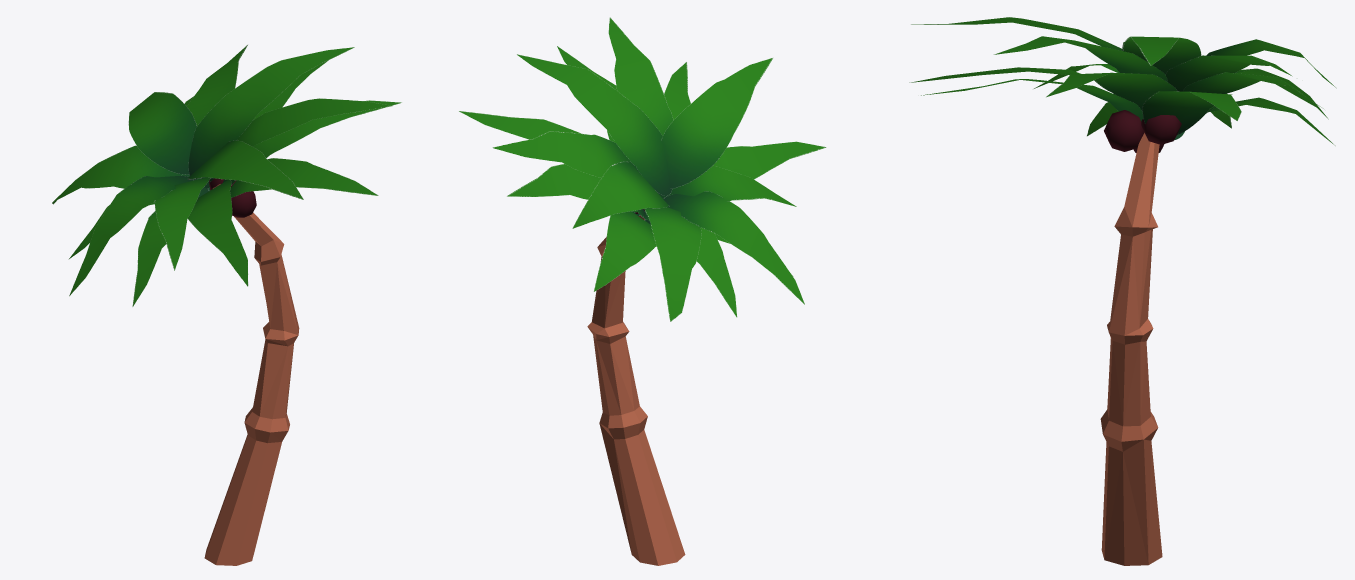
Rendered from Coconut tree.fbx.
The picture shows the model from 3 angles, left to right: view 1: azimuth 30°, elevation 25°; view 2: azimuth 150°, elevation 25°; view 3: azimuth 270°, elevation 25°; orthographic projection. The views are drawn at different scales.
Visible parts, largest first — view 1: Plane.017, Cube.066, Cube.069; view 2: Plane.017, Cube.066; view 3: Cube.066, Plane.017, Cube.069.
Part boxes in pixels (x1=…): Plane.017: x1=52, y1=45, x2=401, y2=306; Cube.066: x1=204, y1=184, x2=299, y2=565; Cube.069: x1=209, y1=178, x2=256, y2=217; Plane.017: x1=459, y1=17, x2=826, y2=321; Cube.066: x1=587, y1=215, x2=685, y2=565; Cube.066: x1=1100, y1=133, x2=1162, y2=565; Plane.017: x1=909, y1=17, x2=1336, y2=145; Cube.069: x1=1104, y1=110, x2=1181, y2=152.
Size of the model in its own units: 1655 by 2276 by 1651.
